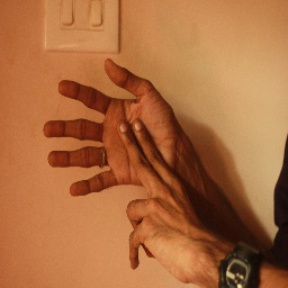N: (34, 55, 205, 252)
